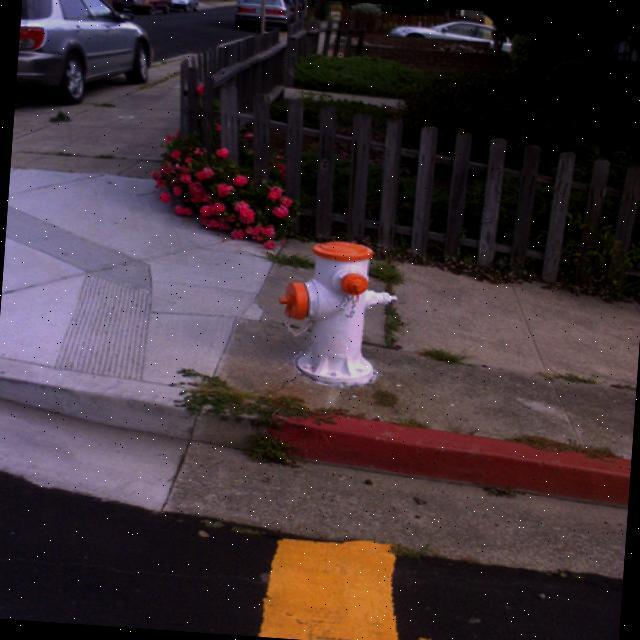fire_hydrant: (272, 232, 400, 388)
